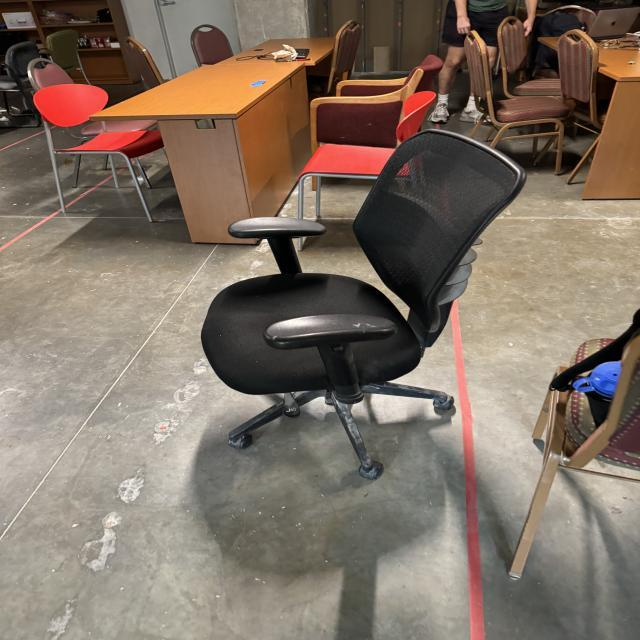chair: (200, 126, 525, 478), (31, 82, 166, 222)
